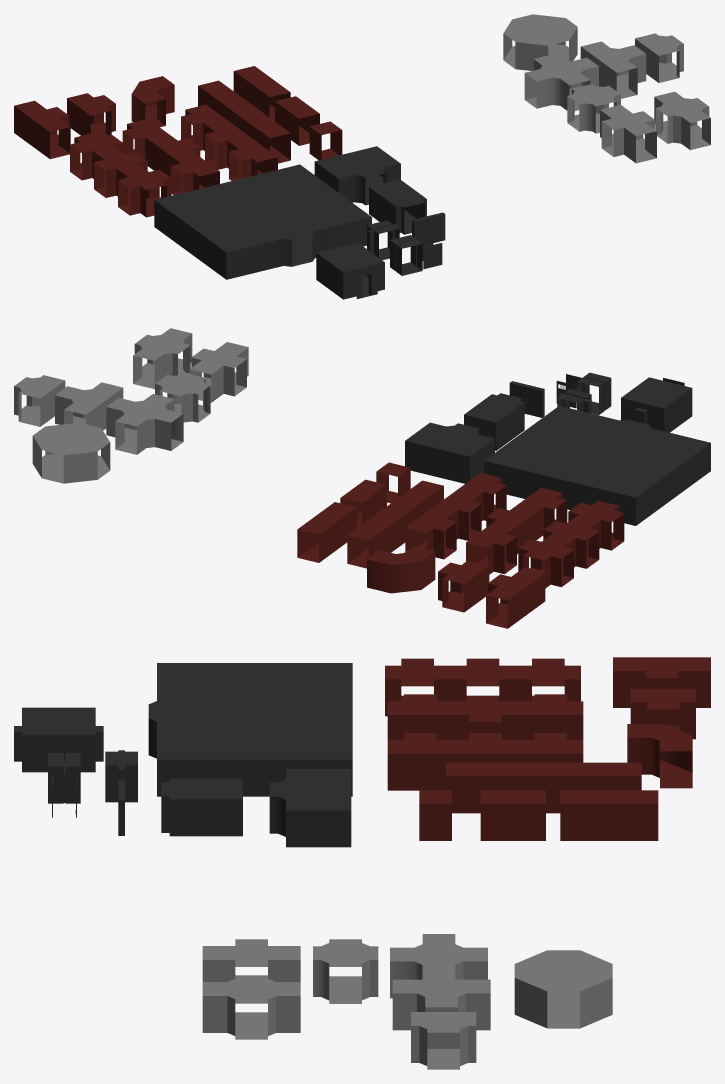
Rendered from Bulding blocks.fbx.
The picture shows the model from 3 angles, top to bottom: view 1: azimuth 30°, elevation 25°; view 2: azimuth 150°, elevation 25°; view 3: azimuth 270°, elevation 25°; orthographic projection. The views are drawn at different scales.
Visible parts, largest first — view 1: room_big, 3x3_divider, 3x0_divider, 2x1_divider, X_section_open, room_medium, Safe_room, Hall_long, X_section_rounded, Room_division, Room_division_rounded, T_section_standard (+12 smaller); view 2: room_big, 3x3_divider, 3x0_divider, 2x1_divider, room_medium, X_section_open, X_section_rounded, Hall_long, Safe_room, T_section_standard, Turn_wide, Room_division_rounded (+12 smaller); view 3: room_big, 2x1_divider, 3x0_divider, X_section_open, 3x3_divider, Hall_long, room_medium, Room_division_rounded, Hall_medium, Safe_room, room_small, T_section_rounded (+11 smaller).
Boxes of the visible parts, left/top/right/bottom form: room_big: left=154, top=164, right=371, bottom=279; 3x3_divider: left=70, top=132, right=171, bottom=217; 3x0_divider: left=181, top=104, right=277, bottom=180; 2x1_divider: left=122, top=119, right=219, bottom=194; X_section_open: left=503, top=14, right=577, bottom=70; room_medium: left=314, top=146, right=400, bottom=205; Safe_room: left=316, top=242, right=384, bottom=299; Hall_long: left=198, top=80, right=290, bottom=163; X_section_rounded: left=524, top=54, right=598, bottom=110; Room_division: left=600, top=105, right=656, bottom=163; Room_division_rounded: left=654, top=91, right=710, bottom=150; T_section_standard: left=14, top=100, right=70, bottom=158; room_big: left=484, top=406, right=710, bottom=525; 3x3_divider: left=518, top=500, right=624, bottom=588; 3x0_divider: left=405, top=473, right=506, bottom=559; 2x1_divider: left=466, top=487, right=567, bottom=574; room_medium: left=405, top=422, right=494, bottom=483; X_section_open: left=32, top=422, right=110, bottom=483; X_section_rounded: left=106, top=394, right=183, bottom=454; Hall_long: left=347, top=480, right=443, bottom=568; Safe_room: left=621, top=377, right=692, bottom=432; T_section_standard: left=486, top=568, right=545, bottom=628; Turn_wide: left=367, top=546, right=435, bottom=593; Room_division_rounded: left=133, top=328, right=192, bottom=389; room_big: left=148, top=663, right=352, bottom=796; 2x1_divider: left=387, top=694, right=583, bottom=739; 3x0_divider: left=387, top=733, right=583, bottom=790; X_section_open: left=514, top=950, right=612, bottom=1028; 3x3_divider: left=385, top=658, right=580, bottom=716; Hall_long: left=446, top=762, right=641, bottom=813; room_medium: left=269, top=769, right=351, bottom=847; Room_division_rounded: left=202, top=975, right=300, bottom=1039; Hall_medium: left=560, top=790, right=658, bottom=840; Safe_room: left=14, top=707, right=103, bottom=772; room_small: left=161, top=778, right=242, bottom=836; T_section_rounded: left=392, top=979, right=490, bottom=1030.
Bounding box in the file's own units: 544 × 25 × 427.
